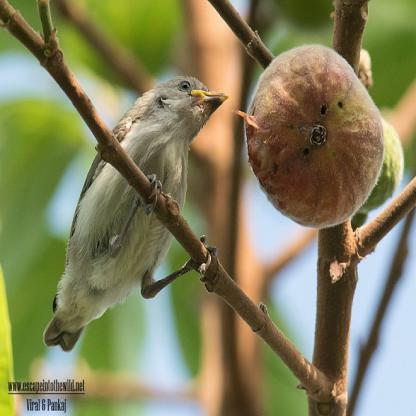Burung: (40, 74, 233, 345)
